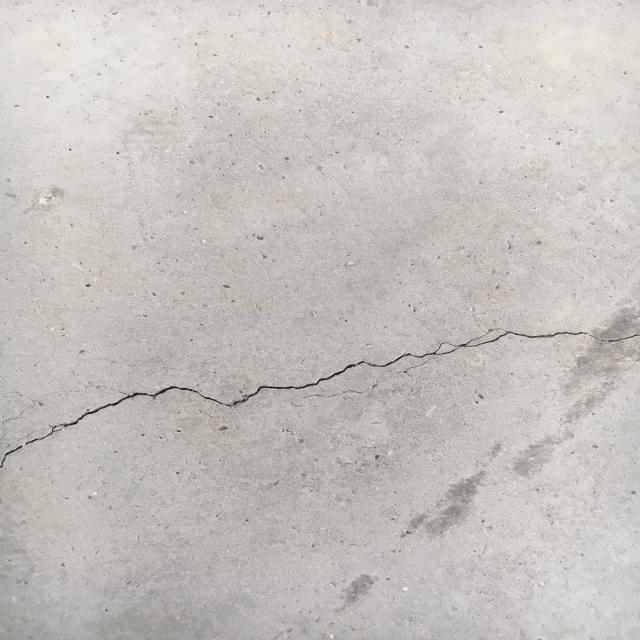Rachadura: (0, 322, 640, 475)
